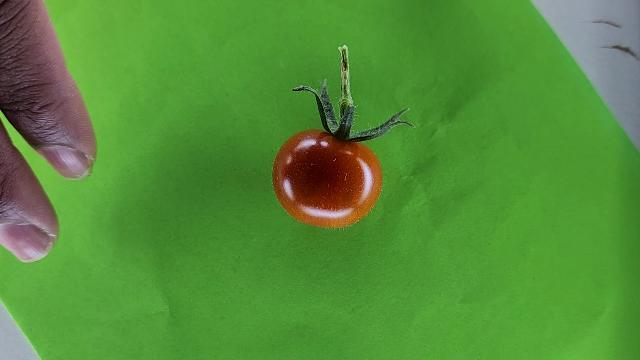Fully Grown: (271, 129, 385, 229)
